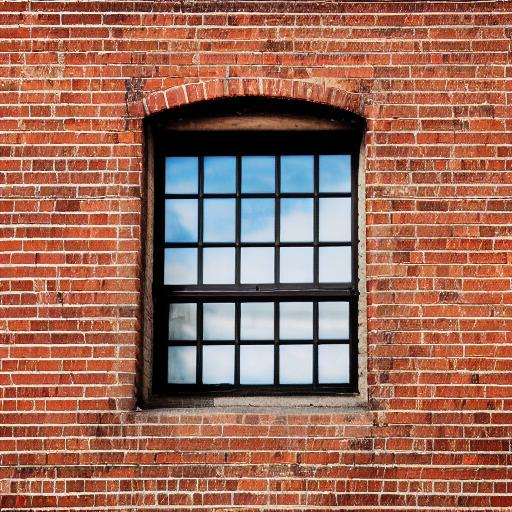Window: (118, 79, 377, 416)
